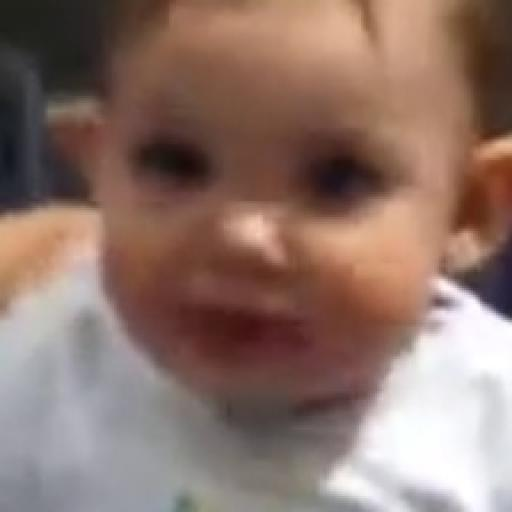Autism: (70, 0, 512, 438)
